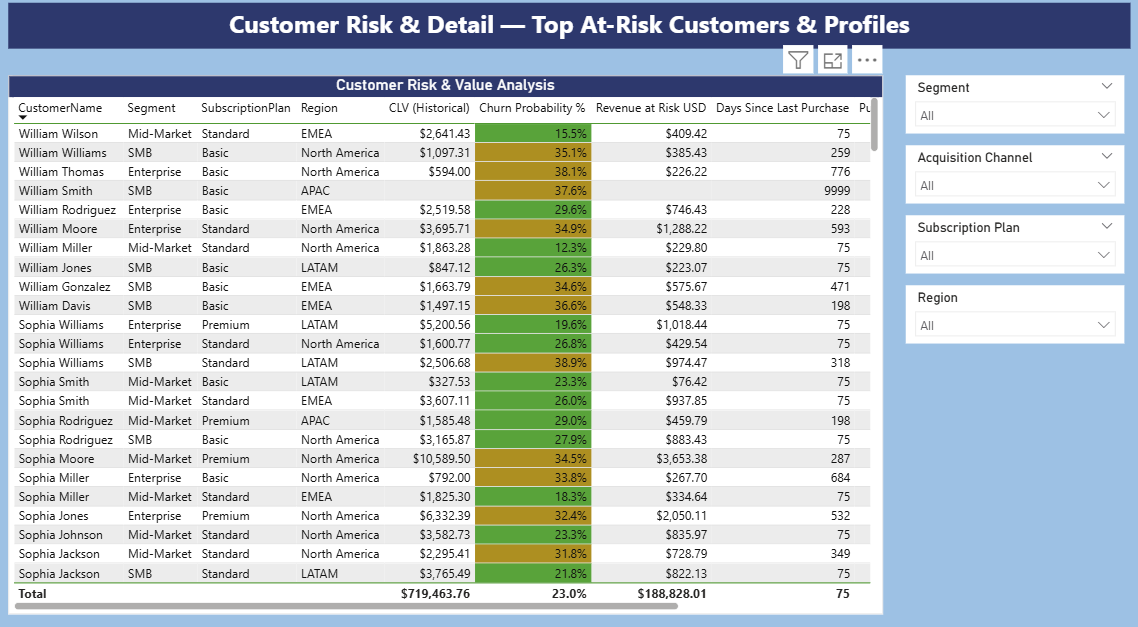

Layout of this report page (visuals, bound fields, positions):
{"tool":"powerbi","page":{"name":"Customer Risk & Detail","canvas":[1280,720],"ordinal":1},"visuals":[{"type":"textbox","box":[24,10,1232,50],"z":0},{"type":"slicer","fields":{"Values":["dim_Customers.Segment"]},"box":[1008,89,240,64],"z":1000},{"type":"slicer","fields":{"Values":["dim_Customers.AcquisitionChannel"]},"box":[1008,166,240,64],"z":2000},{"type":"tableEx","title":"Customer Risk & Value Analysis","fields":{"Values":["dim_Customers.CustomerName","dim_Customers.Segment","dim_Customers.SubscriptionPlan","dim_Customers.Region","fact_Purchases.CLV (Historical)","fact_Purchases.Churn Probability %","fact_Purchases.Revenue at Risk USD","fact_Purchases.Days Since Last Purchase","fact_Purchases.Purchases per Customer","fact_Purchases.Loyalty Score (0-100)"]},"box":[24,89,960,592],"z":3000},{"type":"slicer","fields":{"Values":["dim_Customers.SubscriptionPlan"]},"box":[1008,243,240,64],"z":4000},{"type":"slicer","fields":{"Values":["dim_Customers.Region"]},"box":[1008,320,240,64],"z":5000}]}

Visuals, with their boxes in screenshot pixels (x1, y1, x2, y2), scaled from the page's 1280x720 canvas onto the 1138x627 screenshot:
textbox: x1=21 y1=9 x2=1117 y2=52
slicer - dim_Customers.Segment: x1=896 y1=78 x2=1110 y2=133
slicer - dim_Customers.AcquisitionChannel: x1=896 y1=145 x2=1110 y2=200
"Customer Risk & Value Analysis" tableEx: x1=21 y1=78 x2=875 y2=593
slicer - dim_Customers.SubscriptionPlan: x1=896 y1=212 x2=1110 y2=267
slicer - dim_Customers.Region: x1=896 y1=279 x2=1110 y2=334
